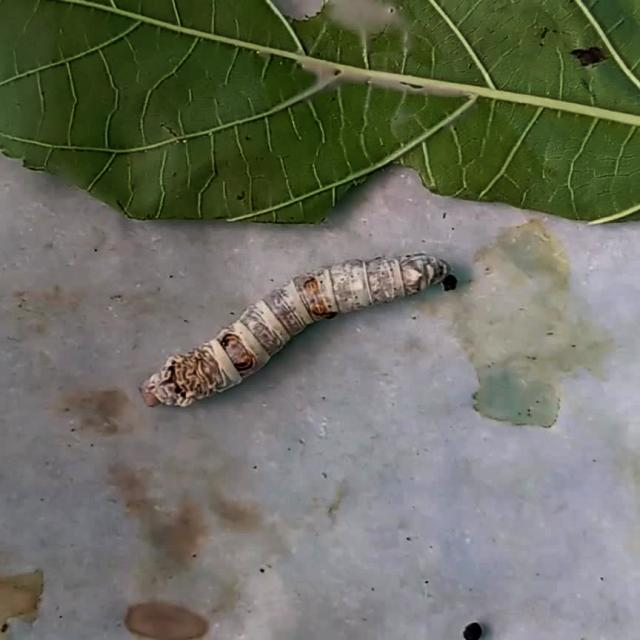Grasserie: (119, 230, 497, 443)
